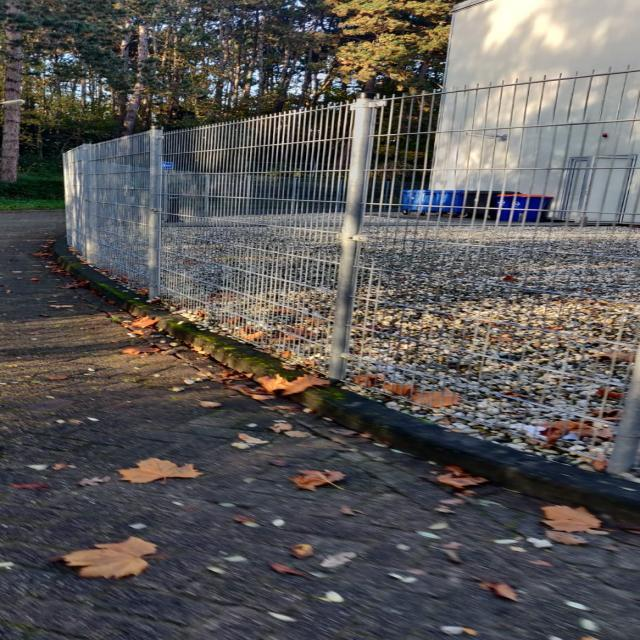fence line: (248, 86, 640, 464), (28, 134, 508, 417)
